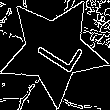L_NW: (25, 24, 83, 77)
